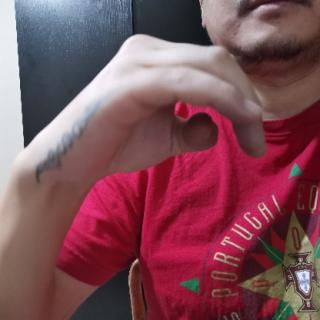JEEM: (12, 29, 281, 194)
